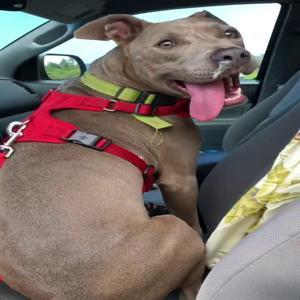nasal_discharge: (209, 49, 233, 79)
